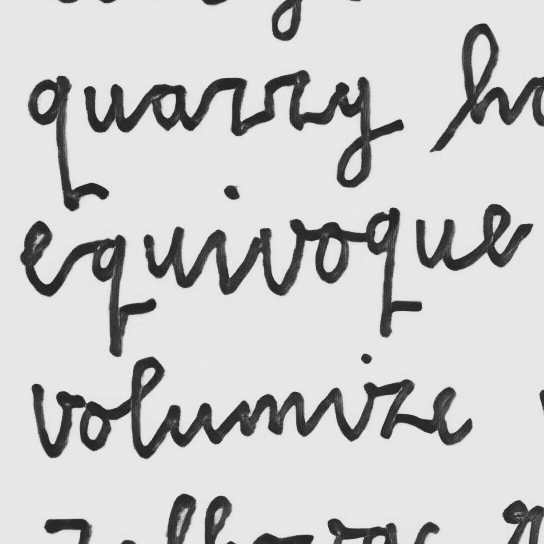e: (479, 200, 528, 269), (19, 216, 59, 300)
i: (206, 182, 244, 297)
o: (311, 220, 353, 285)
q: (88, 231, 132, 360), (363, 205, 403, 339)
u: (140, 224, 189, 284), (413, 215, 459, 273)
v: (255, 216, 308, 297)
